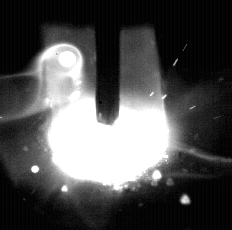arame: (96, 0, 122, 125)
poca: (47, 0, 173, 230)
